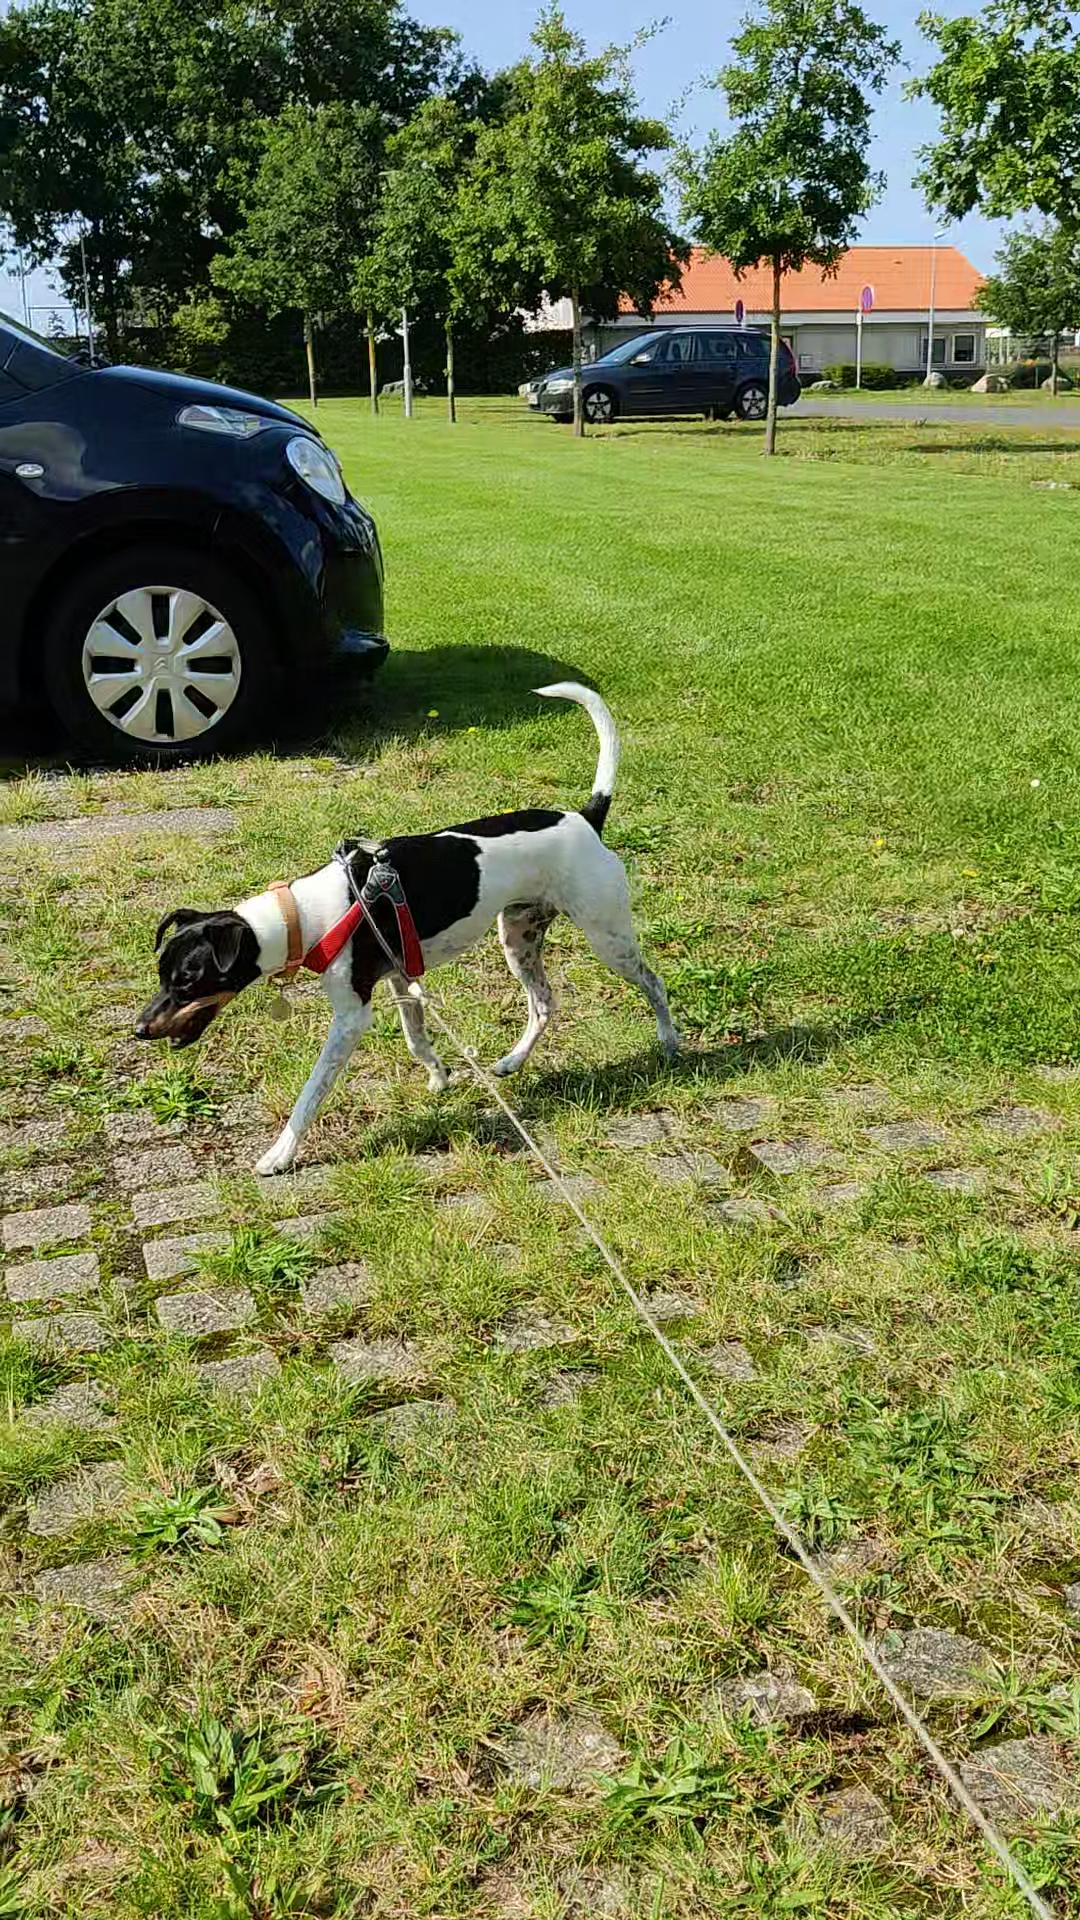Dog: (125, 661, 690, 1175)
